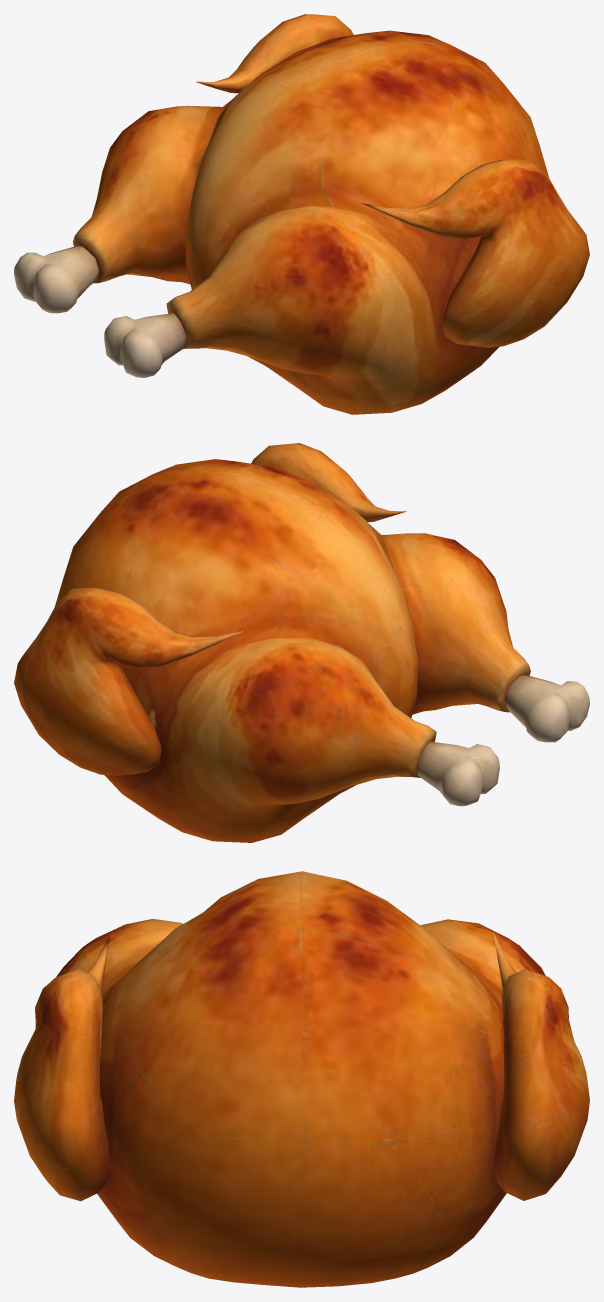
File: moa-roast-chicken.glb
3 renders of one model, top to bottom at view 1: azimuth 30°, elevation 25°; view 2: azimuth 150°, elevation 25°; view 3: azimuth 270°, elevation 25°, orthographic. The views are drawn at different scales.
Visible parts, largest first — view 1: MoaRoastChicken; view 2: MoaRoastChicken; view 3: MoaRoastChicken.
Part boxes in pixels (x1,y1,x2,y2): MoaRoastChicken: (14, 14, 589, 414); MoaRoastChicken: (14, 443, 589, 842); MoaRoastChicken: (14, 871, 589, 1287).
Bounding box in the file's own units: 1.38 × 0.92 × 1.32.
Materials: 1 (1 with a texture image).
